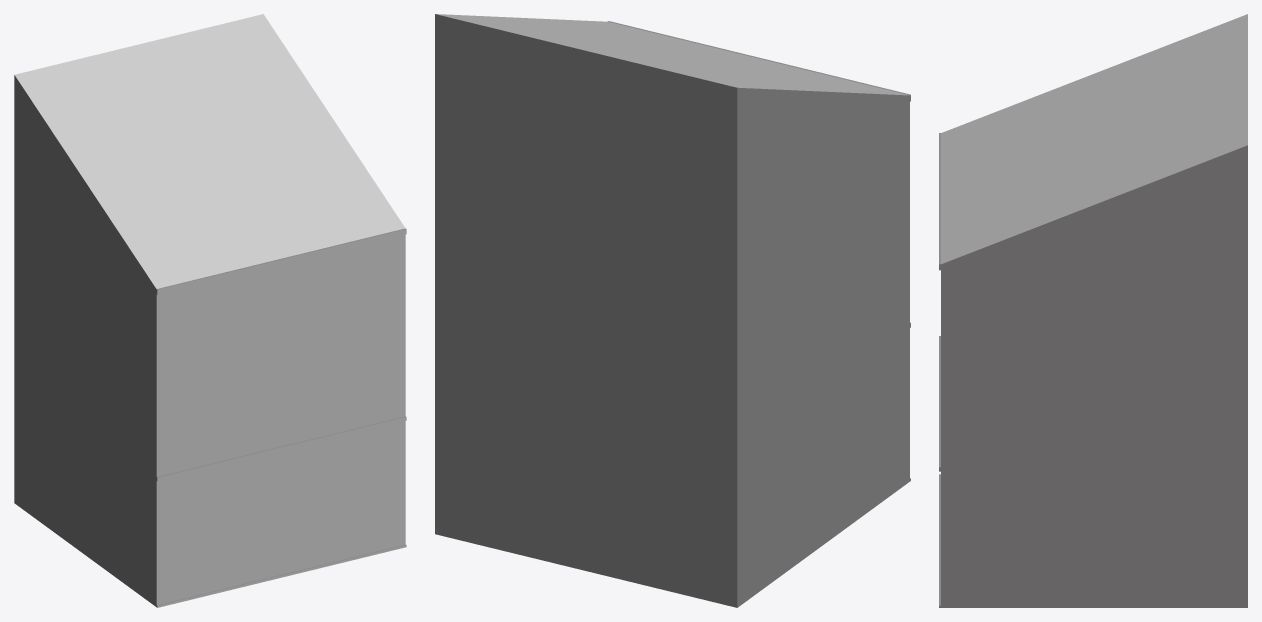
File: building_01.fbx
3 renders of one model, left to right at view 1: azimuth 30°, elevation 25°; view 2: azimuth 150°, elevation 25°; view 3: azimuth 270°, elevation 25°, orthographic. The views are drawn at different scales.
Visible parts, largest first — view 1: Batiment_01; view 2: Batiment_01; view 3: Batiment_01.
Part boxes in pixels (x1,y1,x2,y2): Batiment_01: (14,14,406,607); Batiment_01: (435,14,910,607); Batiment_01: (939,14,1247,607).
Bounding box in the file's own units: 259 × 426 × 258.
